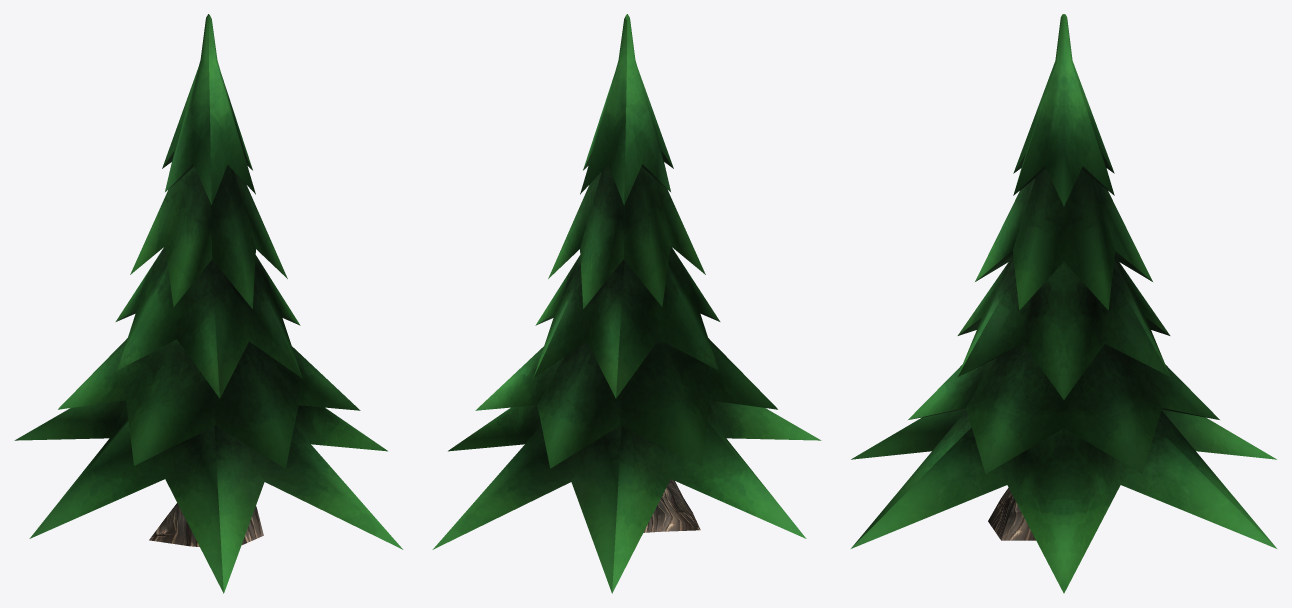
Rendered from pinetree_01.FBX.
3 renders of one model, left to right at view 1: azimuth 30°, elevation 25°; view 2: azimuth 150°, elevation 25°; view 3: azimuth 270°, elevation 25°, orthographic.
Parts seen in each view (by area): view 1: Pinetree_01; view 2: Pinetree_01; view 3: Pinetree_01.
Part boxes in pixels (x1,y1,x2,y2): Pinetree_01: (14, 14, 403, 593); Pinetree_01: (432, 14, 821, 593); Pinetree_01: (851, 14, 1276, 593).
Size of the model in its own units: 331 by 444 by 334.
